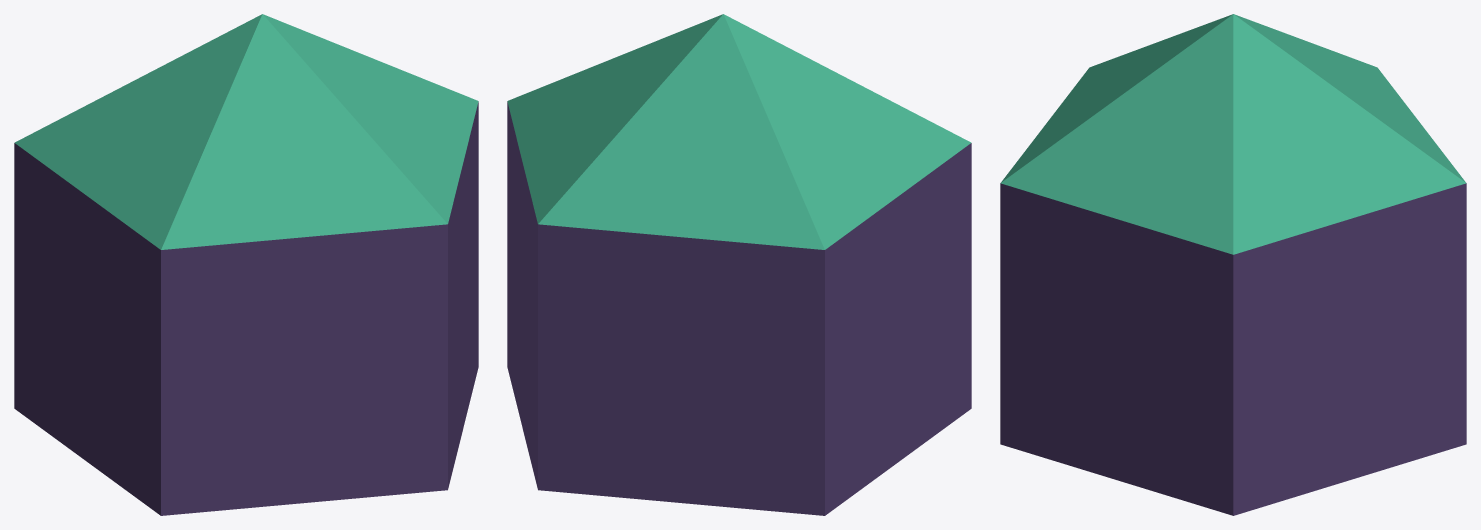
File: J9.PiramidePentagonalElongada.gltf
3 renders of one model, left to right at view 1: azimuth 30°, elevation 25°; view 2: azimuth 150°, elevation 25°; view 3: azimuth 270°, elevation 25°, orthographic.
Visible parts, largest first — view 1: J9.PiramidePentagonalElongada; view 2: J9.PiramidePentagonalElongada; view 3: J9.PiramidePentagonalElongada.
Part boxes in pixels (box(x1,y1,x2,y2)): J9.PiramidePentagonalElongada: box(14, 14, 478, 515); J9.PiramidePentagonalElongada: box(507, 14, 971, 515); J9.PiramidePentagonalElongada: box(1000, 14, 1466, 515).
Size of the model in its own units: 15 by 14.87 by 15.77.
